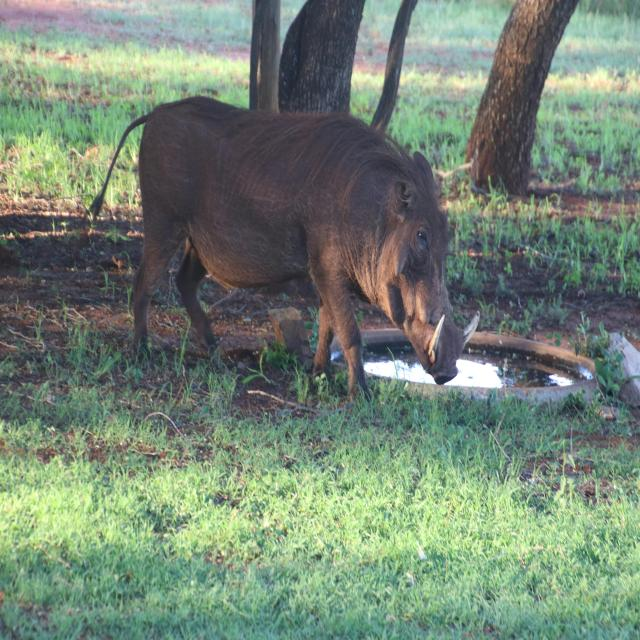Boar: (104, 99, 474, 399)
